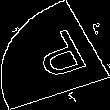P_SE: (20, 24, 90, 86)
